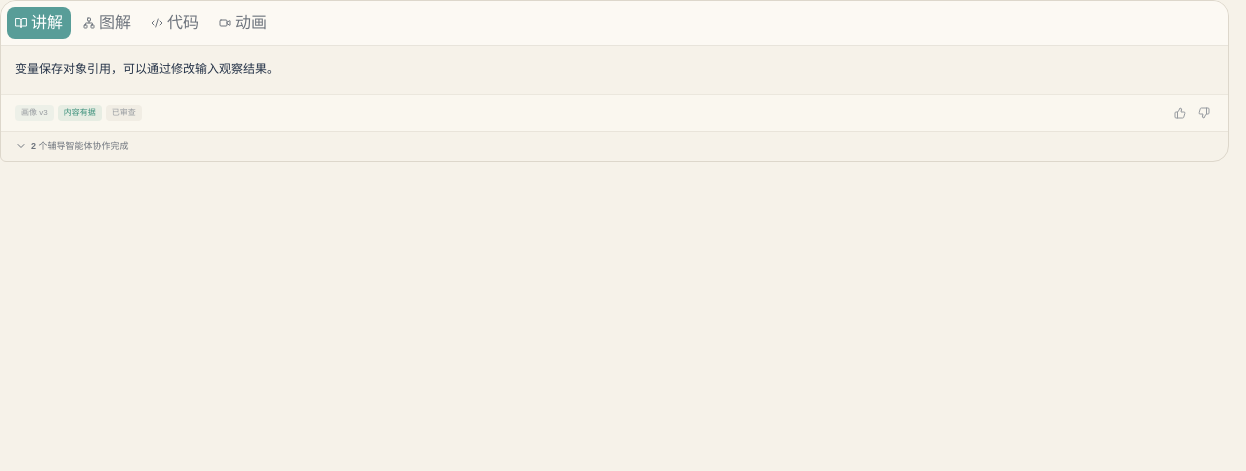
it: TutorRichResponse › renders hierarchy with its own visual grammar
Click the button "图解" at (107,23), box [75, 7, 139, 39]
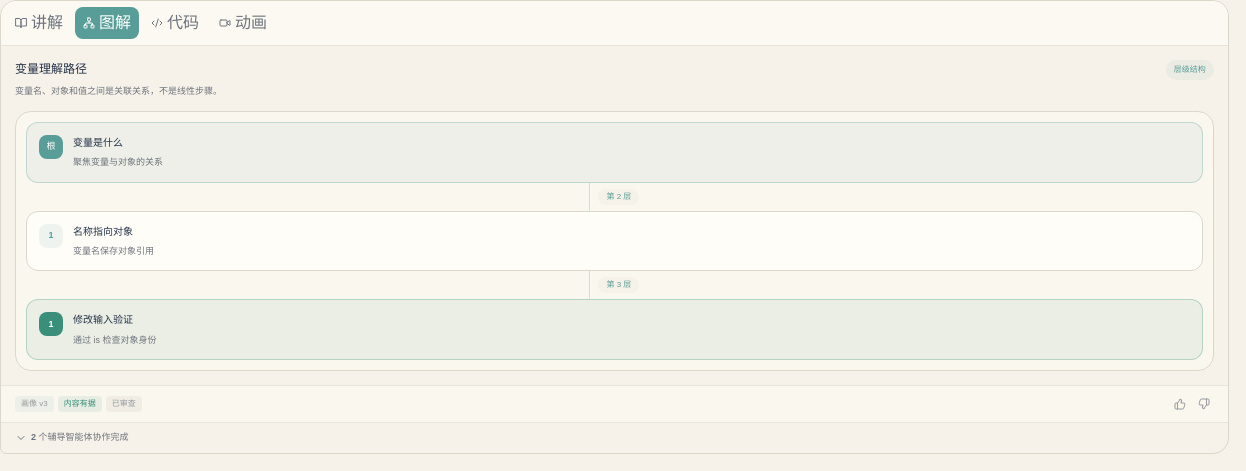
Check: the element named "层级结构图" is shown, box [15, 111, 1214, 371]
Check: the text "层级结构" is shown, box [1166, 60, 1214, 80]
